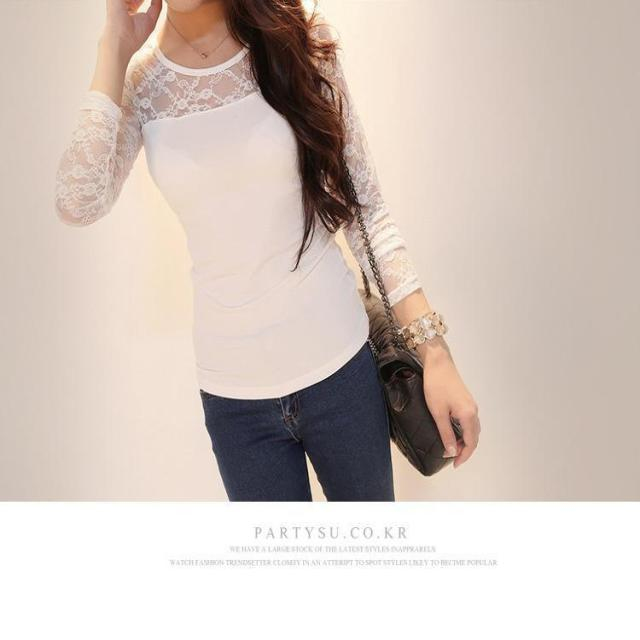long sleeve top: (93, 4, 420, 396)
trousers: (197, 320, 394, 504)
